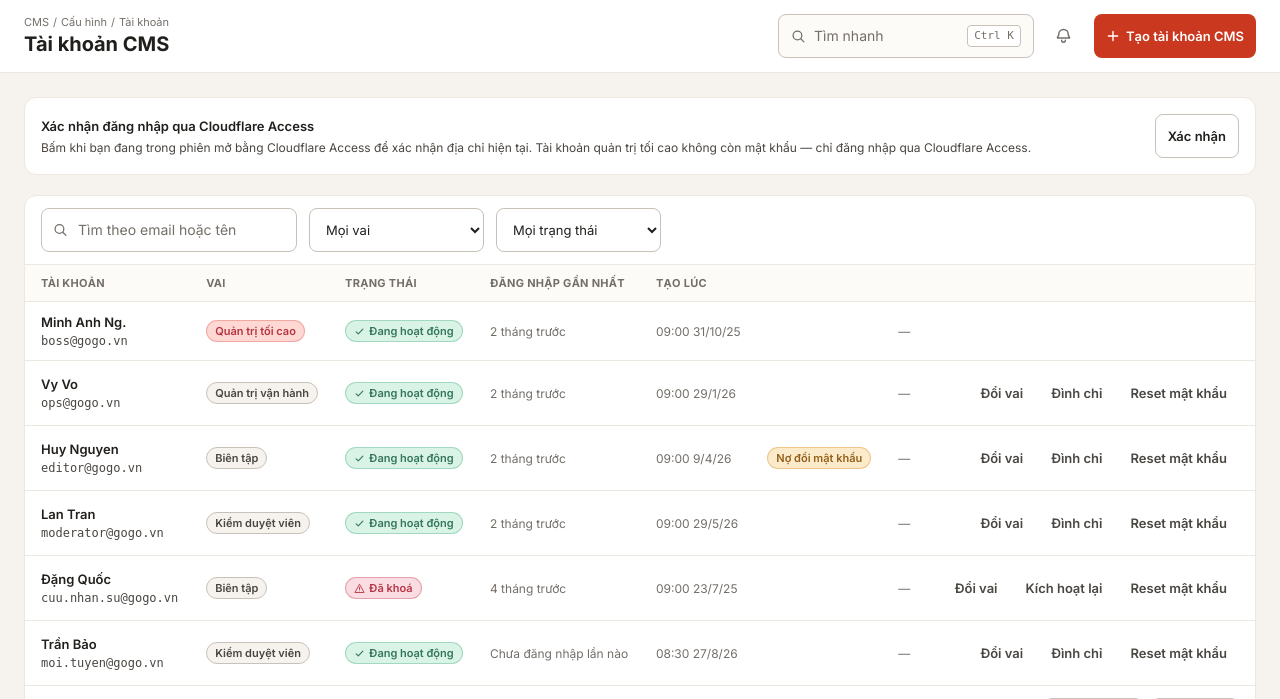
it: AdminListScreen (CMS-021) › pushes the role filter to the server
Expected: the table is shown, 25,265 -> 1255,685
Select "Biên tập" in the dropdown named "Vai" at (396, 230), box 309,208 -> 484,252
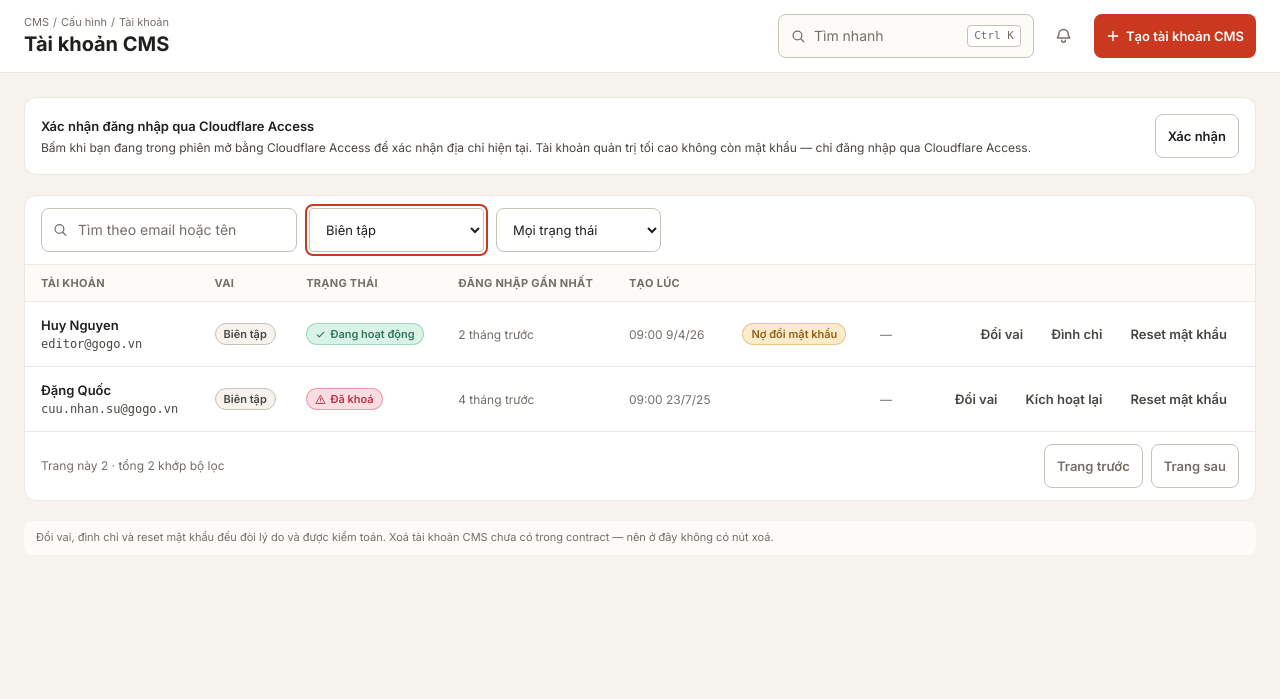
Expected: the text "Trang này 2 · tổng 2 khớp bộ lọc" is shown, 41,458 -> 224,474
Expected: the text "boss@gogo.vn" is gone
